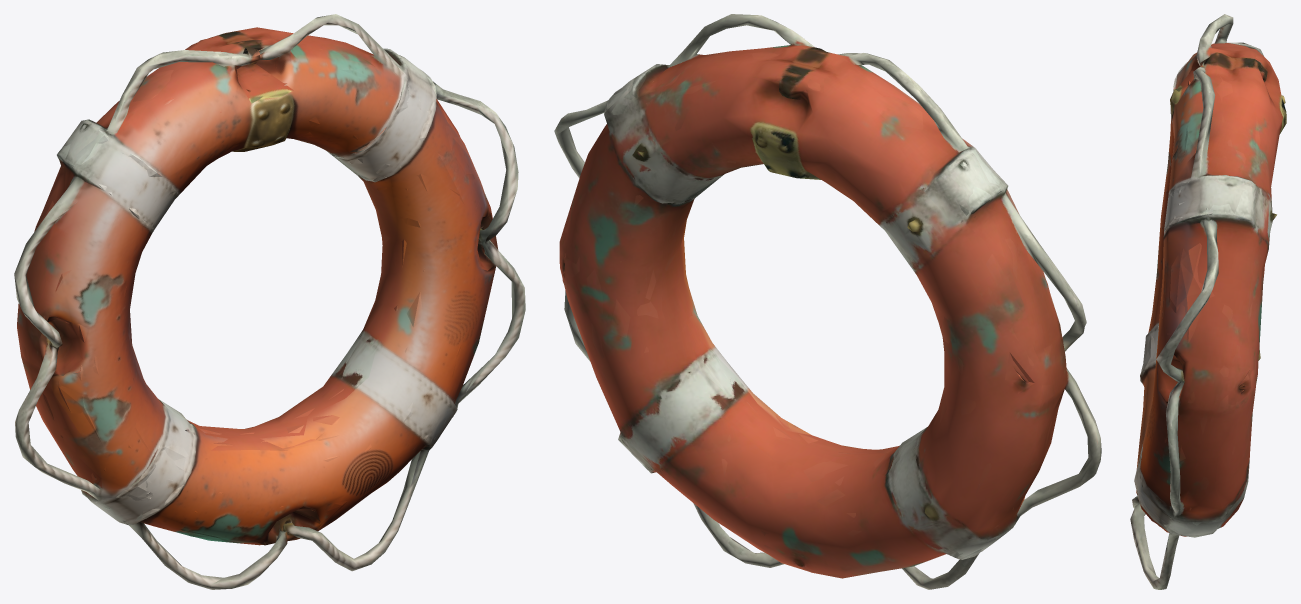
File: lifering.fbx
The picture shows the model from 3 angles, left to right: view 1: azimuth 30°, elevation 25°; view 2: azimuth 150°, elevation 25°; view 3: azimuth 270°, elevation 25°; orthographic projection. The views are drawn at different scales.
Visible parts, largest first — view 1: Mesh_0.001; view 2: Mesh_0.001; view 3: Mesh_0.001.
Part boxes in pixels (x1,y1,x2,y2): Mesh_0.001: (14, 14, 525, 589); Mesh_0.001: (554, 14, 1101, 589); Mesh_0.001: (1130, 14, 1286, 589).
Size of the model in its own units: 0.8672 by 0.8844 by 0.2488.
1 material, 1 textured.
